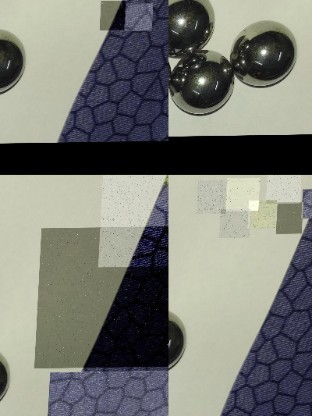ironball: (37, 227, 168, 368), (99, 174, 168, 267), (165, 46, 236, 122), (49, 371, 168, 415), (225, 19, 294, 88), (168, 0, 225, 58), (0, 26, 29, 92), (169, 309, 194, 373), (226, 178, 261, 211), (197, 180, 228, 214), (267, 174, 302, 204), (220, 209, 252, 238), (277, 202, 304, 234), (249, 200, 278, 229), (127, 3, 155, 31), (0, 348, 13, 407), (102, 1, 127, 30), (302, 189, 311, 219)
